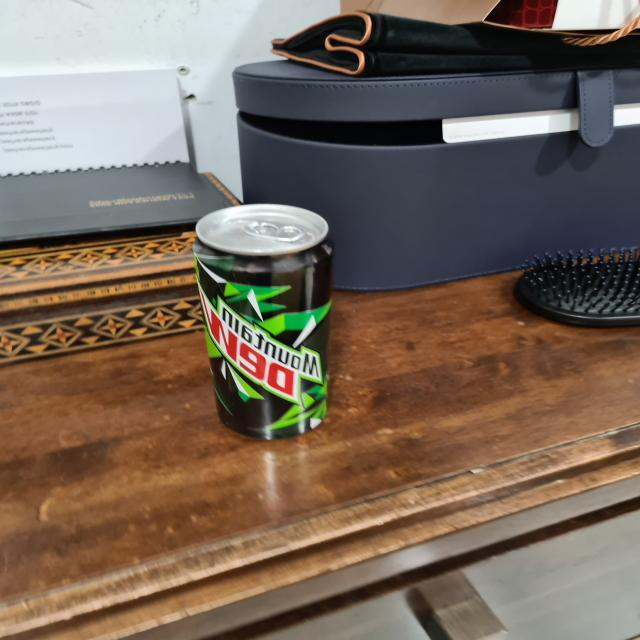can: (184, 202, 354, 446)
